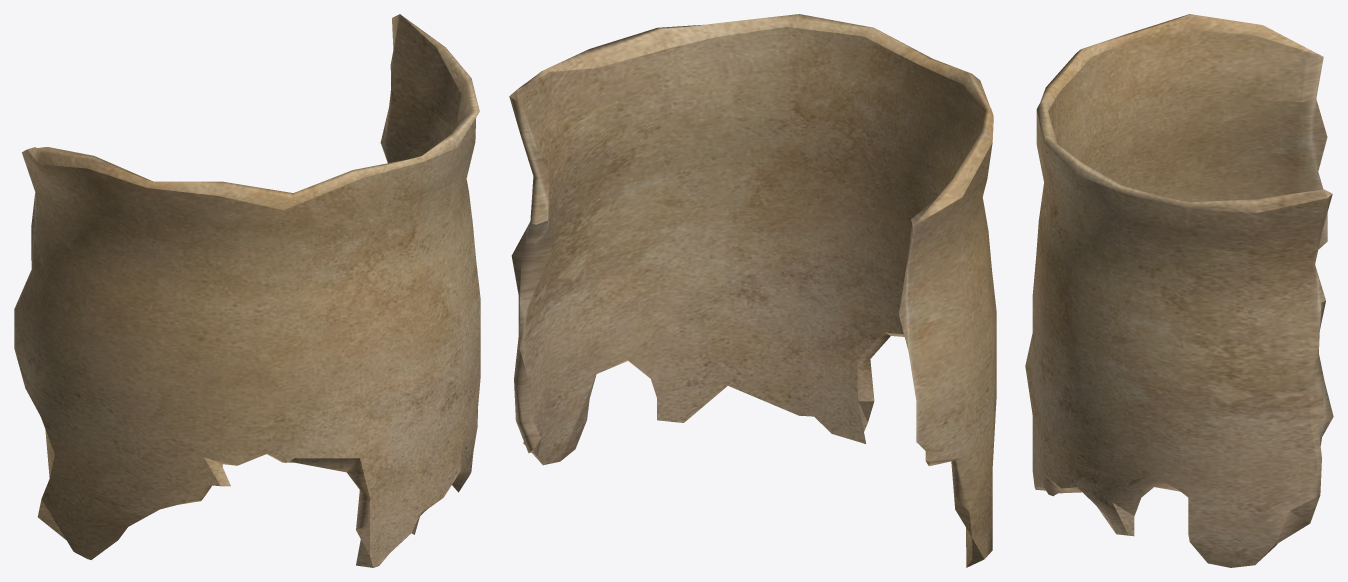
File: ceramics.fbx
3 views of the same model, side by side, from view 1: azimuth 30°, elevation 25°; view 2: azimuth 150°, elevation 25°; view 3: azimuth 270°, elevation 25° (orthographic). The views are drawn at different scales.
Visible parts, largest first — view 1: pPipe1; view 2: pPipe1; view 3: pPipe1.
Boxes of the visible parts, x1=… form: pPipe1: x1=14, y1=14, x2=480, y2=567; pPipe1: x1=509, y1=14, x2=996, y2=567; pPipe1: x1=1025, y1=14, x2=1333, y2=567.
Size of the model in its own units: 6.12 by 5.77 by 4.11.
Materials: 1 (1 with a texture image).
